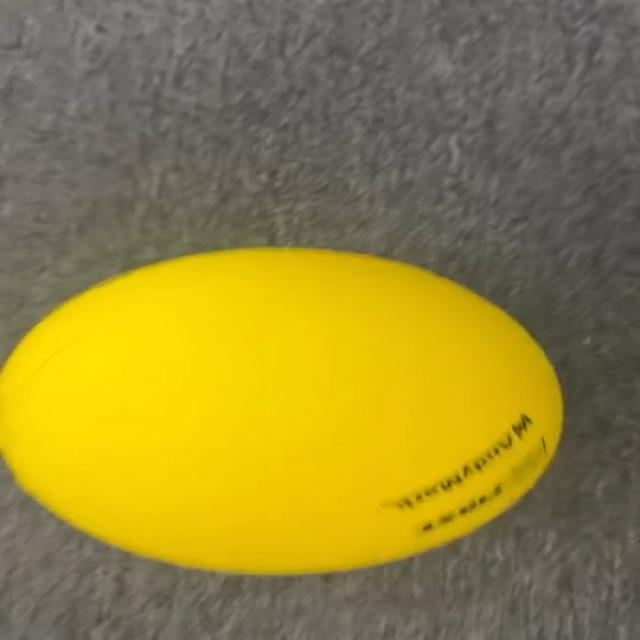Fuels: (2, 247, 564, 572)
